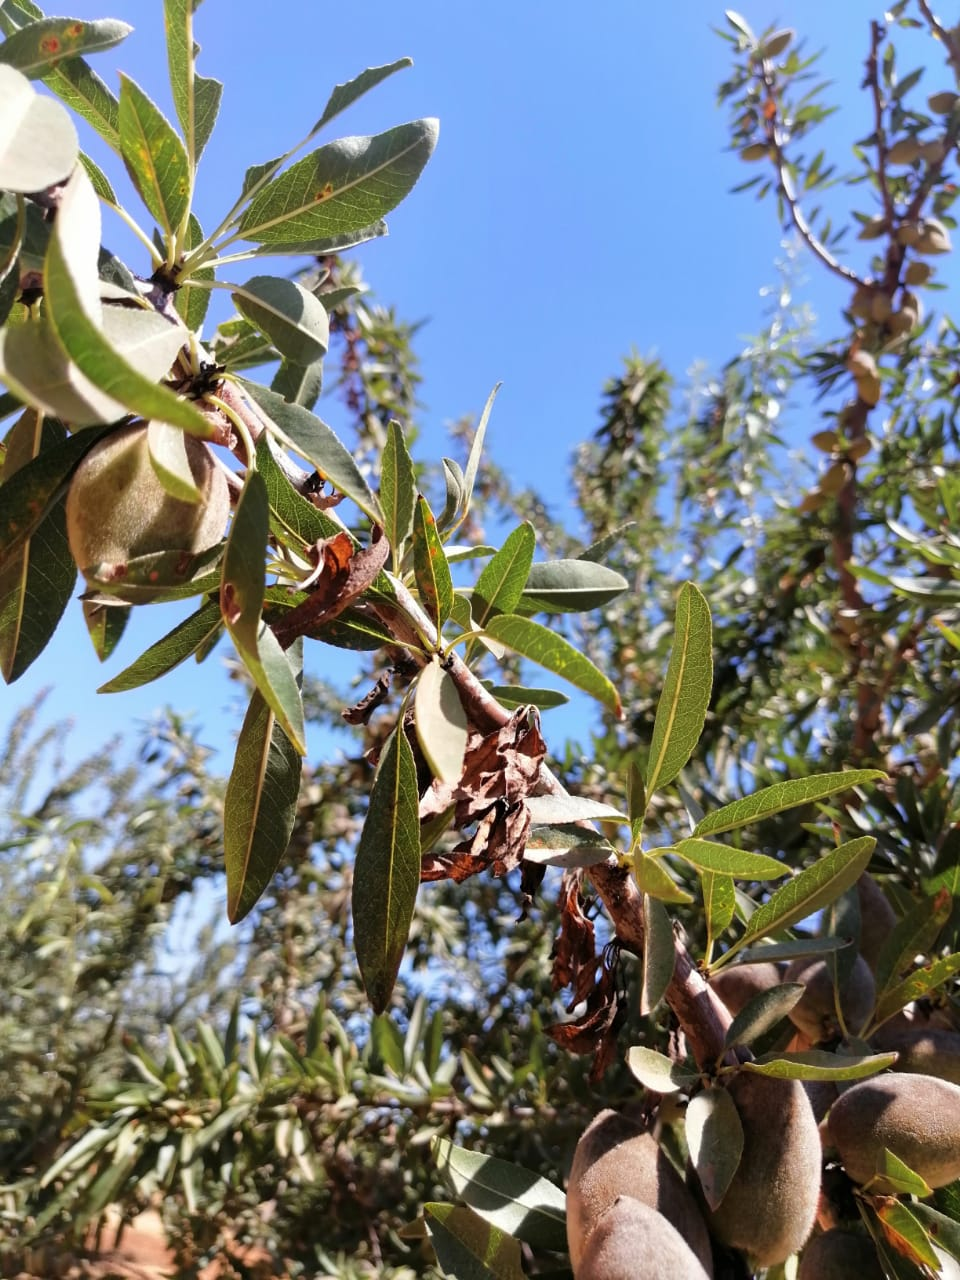scolytes: (274, 533, 652, 1058)
